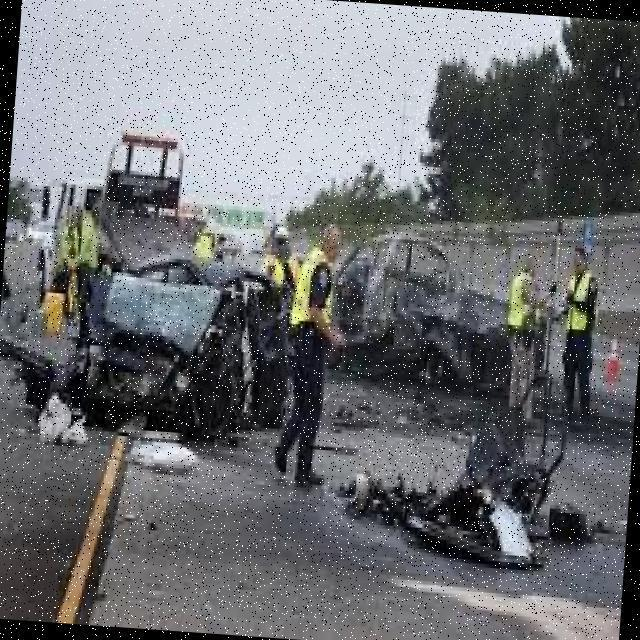accident: (68, 165, 302, 478), (303, 181, 549, 416)
